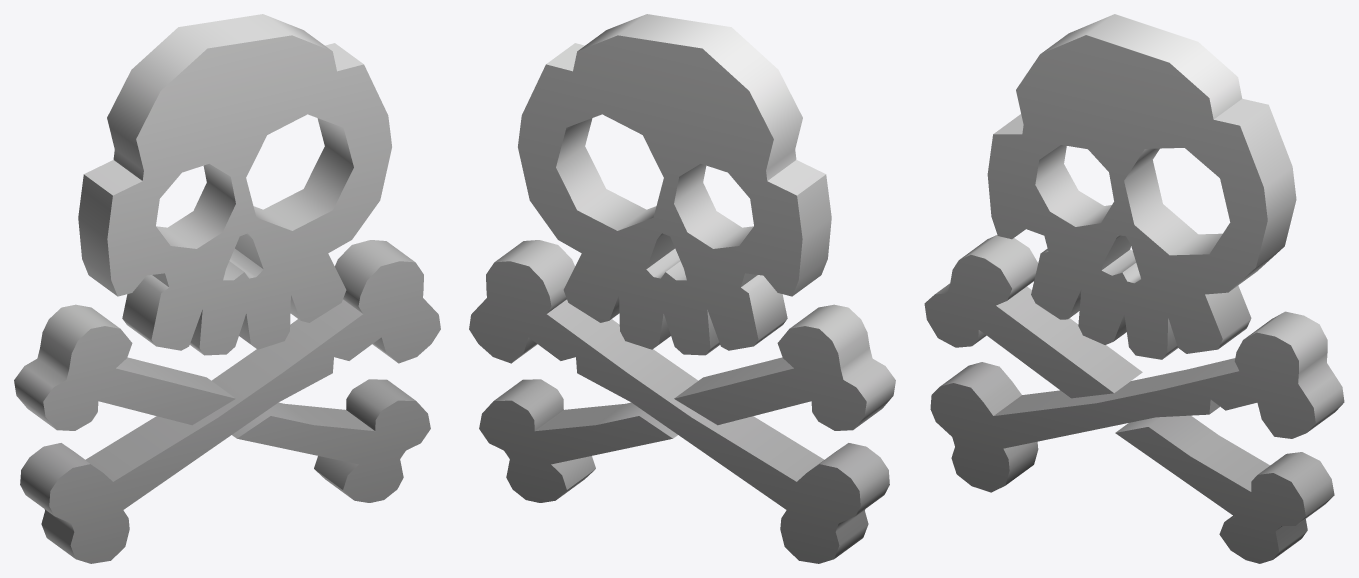
Rendered from Collectable_Skull_Icon_01.fbx.
3 renders of one model, left to right at view 1: azimuth 30°, elevation 25°; view 2: azimuth 150°, elevation 25°; view 3: azimuth 330°, elevation 25°, orthographic.
Parts seen in each view (by area): view 1: Collectable_Skull_Icon_01; view 2: Collectable_Skull_Icon_01; view 3: Collectable_Skull_Icon_01.
Part boxes in pixels (box(x1,y1,x2,y2)): Collectable_Skull_Icon_01: box(14, 14, 440, 563); Collectable_Skull_Icon_01: box(469, 14, 895, 563); Collectable_Skull_Icon_01: box(924, 14, 1344, 563).
Bounding box in the file's own units: 78.74 × 93.55 × 10.
Materials: 1 (1 with a texture image).
